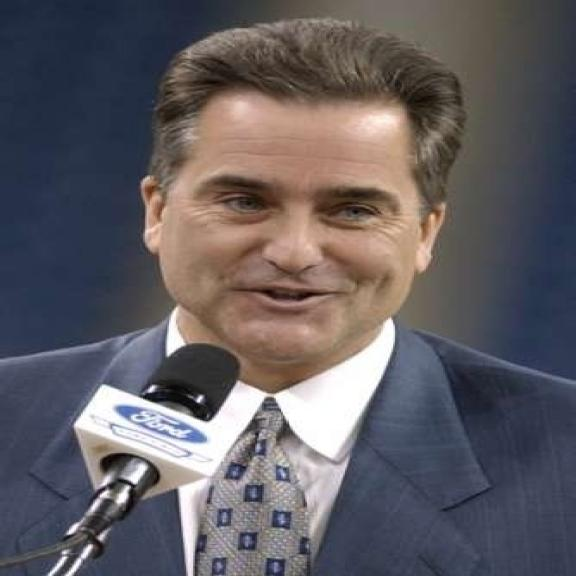face: (134, 49, 454, 370)
